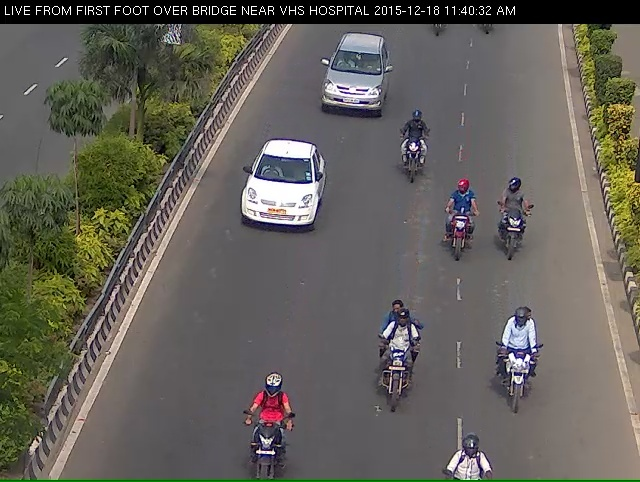Car: (220, 153, 331, 258), (319, 38, 389, 135)
Person: (369, 333, 419, 442), (502, 322, 535, 430), (494, 198, 536, 278), (236, 414, 284, 480), (445, 199, 479, 287), (398, 123, 426, 202)
